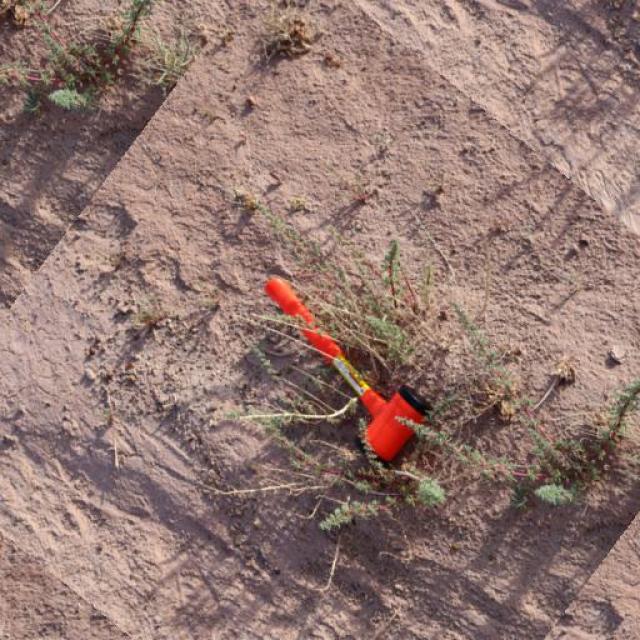mallet: (261, 275, 430, 461)
